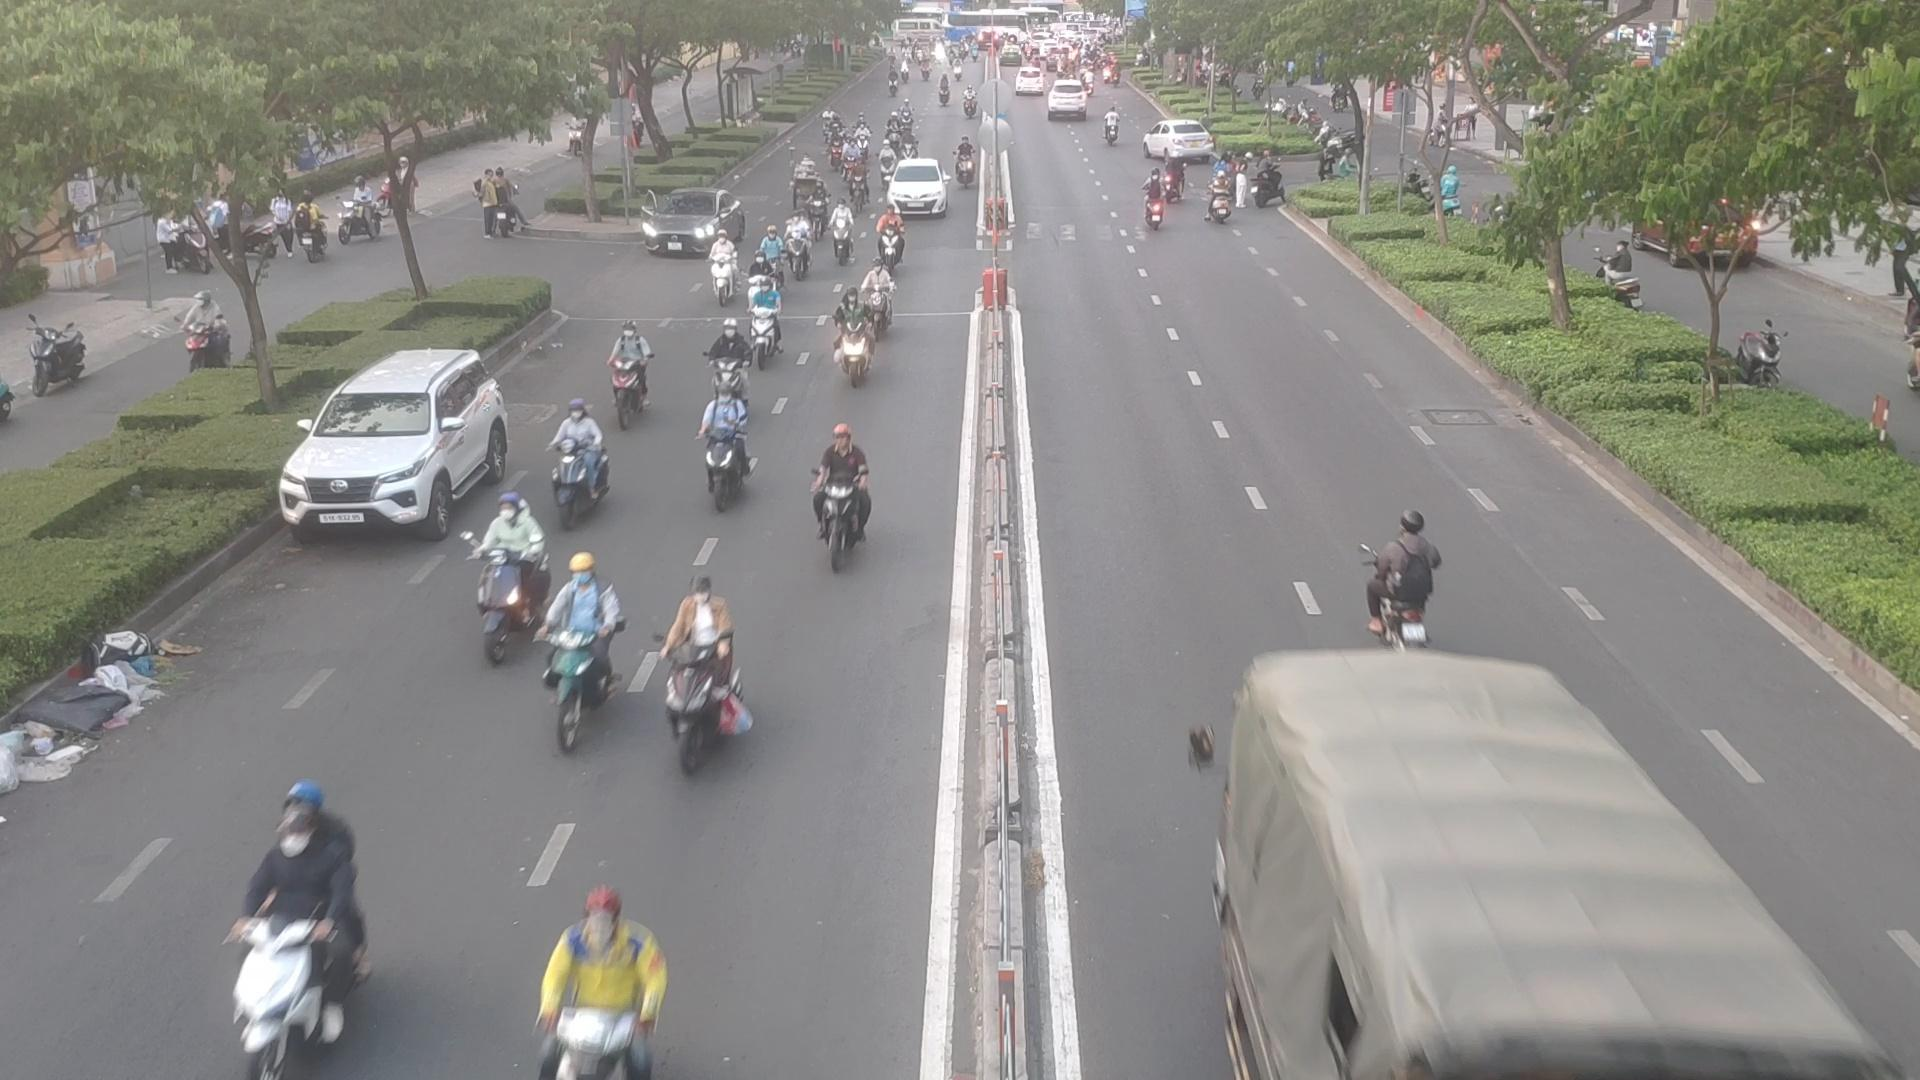car: (1187, 645, 1892, 1080), (281, 353, 516, 543), (634, 190, 741, 257), (1147, 120, 1221, 162)
motorbike: (215, 781, 378, 1080), (498, 884, 687, 1080), (659, 568, 758, 781), (460, 483, 553, 661), (537, 551, 616, 732), (1366, 497, 1445, 642), (529, 404, 616, 531), (814, 425, 872, 564), (703, 396, 758, 514), (605, 324, 654, 423), (829, 299, 869, 376), (862, 258, 897, 334), (752, 278, 778, 375), (708, 231, 737, 305), (785, 208, 818, 273), (831, 196, 858, 262), (877, 212, 907, 268), (1158, 154, 1188, 203), (953, 137, 977, 187), (1139, 171, 1163, 222), (1209, 175, 1230, 227), (844, 141, 861, 189), (880, 140, 895, 189), (828, 127, 847, 164), (899, 127, 915, 167), (851, 161, 864, 210), (855, 123, 872, 157), (812, 189, 824, 229), (887, 117, 899, 152)
